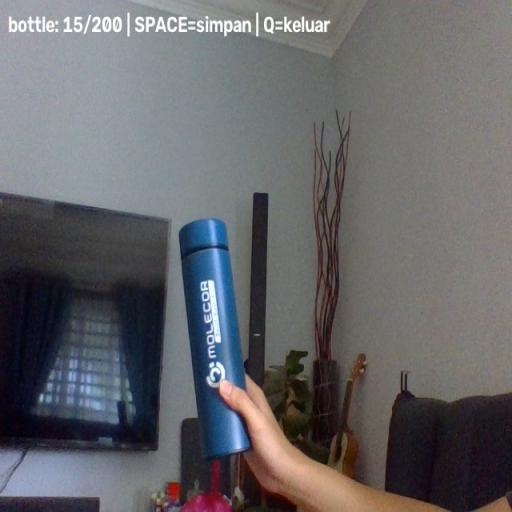Bottle: (178, 218, 254, 460)
